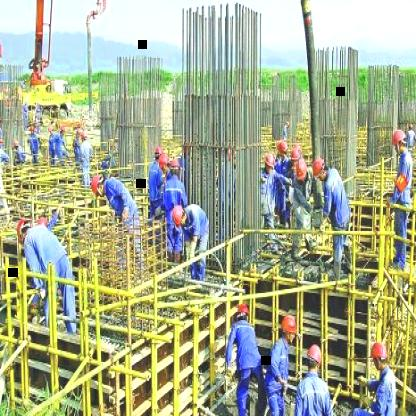helmet: (278, 308, 302, 342), (85, 170, 108, 201), (366, 340, 391, 364), (170, 201, 190, 231), (294, 154, 310, 186), (308, 340, 326, 368), (17, 211, 32, 243), (390, 123, 407, 151), (312, 152, 326, 184), (236, 299, 255, 320), (263, 147, 276, 176), (159, 146, 171, 174), (275, 135, 287, 158)
